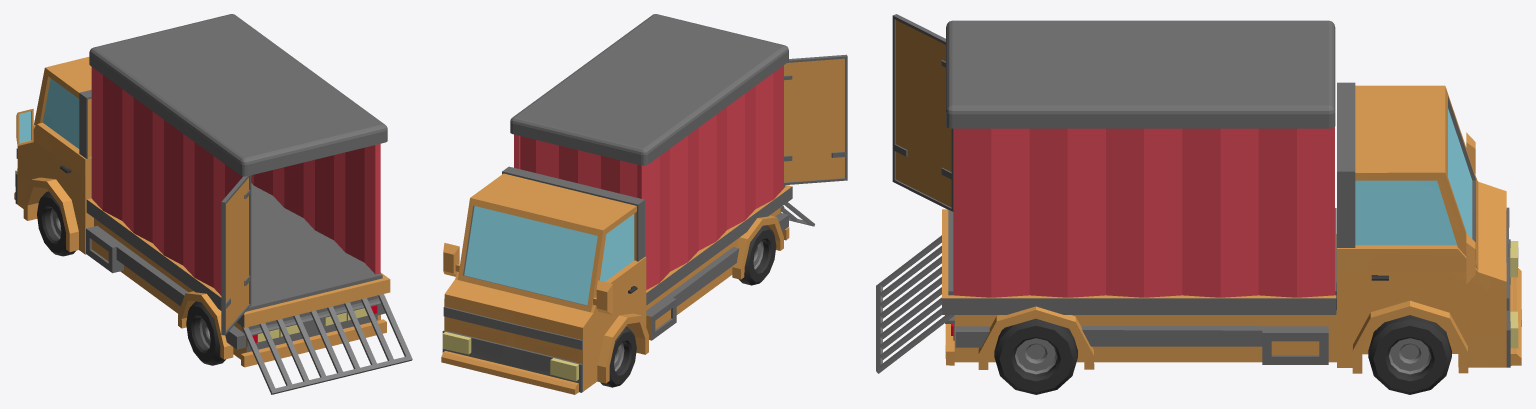
The model's file is truck_revised.fbx.
3 renders of one model, left to right at view 1: azimuth 30°, elevation 25°; view 2: azimuth 150°, elevation 25°; view 3: azimuth 270°, elevation 25°, orthographic. The views are drawn at different scales.
Parts seen in each view (by area): view 1: Plane.131, Plane.133, truck_seperate.003, Plane.130, Plane.134, Plane.137, truck_fl_wheel.003, truck_seperate.004, truck_seperate.005; view 2: truck_seperate.003, Plane.133, Plane.131, Plane.137, Plane.132, truck_fl_wheel.003, truck_seperate.004, truck_seperate.005; view 3: Plane.131, truck_seperate.003, Plane.133, truck_fl_wheel.003, Plane.137, Plane.134, truck_seperate.004, truck_seperate.005, Plane.130.
Boxes of the visible parts, x1,y1,x2,y2 form: Plane.131: (91, 67, 380, 295); Plane.133: (89, 14, 387, 176); truck_seperate.003: (14, 57, 390, 367); Plane.130: (246, 183, 382, 311); Plane.134: (241, 294, 412, 394); Plane.137: (221, 175, 251, 335); truck_fl_wheel.003: (37, 191, 225, 365); truck_seperate.004: (23, 177, 78, 251); truck_seperate.005: (178, 291, 380, 359); truck_seperate.003: (441, 166, 792, 394); Plane.133: (510, 14, 788, 165); Plane.131: (514, 65, 783, 289); Plane.137: (784, 54, 847, 185); Plane.132: (520, 136, 637, 197); truck_fl_wheel.003: (600, 225, 776, 387); truck_seperate.004: (597, 313, 648, 383); truck_seperate.005: (732, 215, 783, 279); Plane.131: (953, 127, 1334, 297); truck_seperate.003: (942, 82, 1521, 367); Plane.133: (946, 20, 1335, 128); truck_fl_wheel.003: (994, 315, 1451, 394); Plane.137: (892, 14, 953, 211); Plane.134: (876, 235, 954, 373); truck_seperate.004: (1352, 300, 1468, 373); truck_seperate.005: (978, 306, 1094, 369); Plane.130: (948, 208, 1336, 299).
Bounding box in the file's own units: 218 × 233 × 477.
